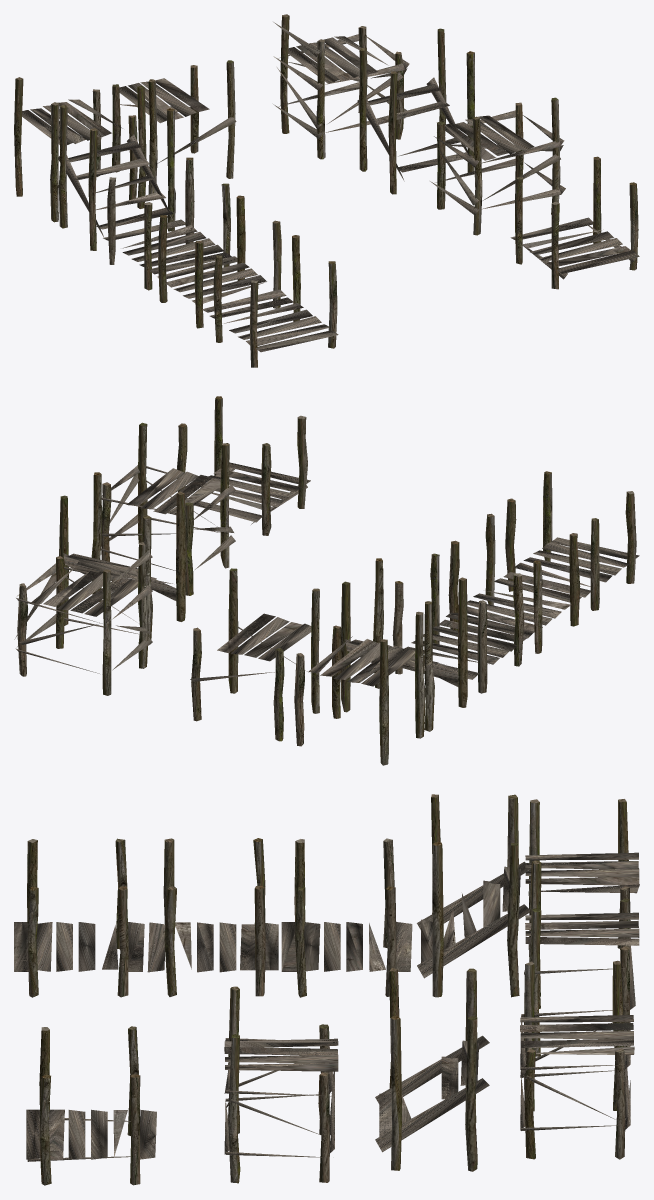
Rendered from cove-walkway.lod1.glb.
3 renders of one model, top to bottom at view 1: azimuth 30°, elevation 25°; view 2: azimuth 150°, elevation 25°; view 3: azimuth 270°, elevation 25°, orthographic. The views are drawn at different scales.
Parts seen in each view (by area): view 1: Cylinder.266_Material.006_0, Cube.397_Material.002_0; view 2: Cylinder.266_Material.006_0, Cube.397_Material.002_0; view 3: Cube.397_Material.002_0, Cylinder.266_Material.006_0.
Boxes of the visible parts, bbox=[...] form: Cylinder.266_Material.006_0: bbox=[14, 14, 638, 367]; Cube.397_Material.002_0: bbox=[22, 22, 639, 352]; Cylinder.266_Material.006_0: bbox=[17, 396, 636, 765]; Cube.397_Material.002_0: bbox=[14, 462, 639, 686]; Cube.397_Material.002_0: bbox=[14, 852, 639, 1161]; Cylinder.266_Material.006_0: bbox=[27, 794, 630, 1185].
Size of the model in its own units: 8.61 by 2.51 by 9.4.
Materials: 2 (2 with a texture image).
